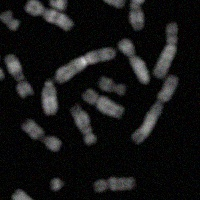chromosome: (131, 75, 178, 144), (54, 47, 118, 83), (24, 0, 73, 30), (154, 23, 180, 79), (118, 38, 150, 83), (82, 87, 124, 118), (5, 53, 35, 96), (71, 105, 96, 146), (94, 176, 135, 196), (41, 80, 59, 117), (129, 0, 149, 32), (98, 76, 127, 96), (12, 188, 60, 200), (19, 119, 44, 139), (0, 10, 21, 32), (42, 134, 64, 151), (91, 0, 126, 9), (49, 178, 64, 192), (47, 0, 67, 10), (0, 52, 5, 79)
